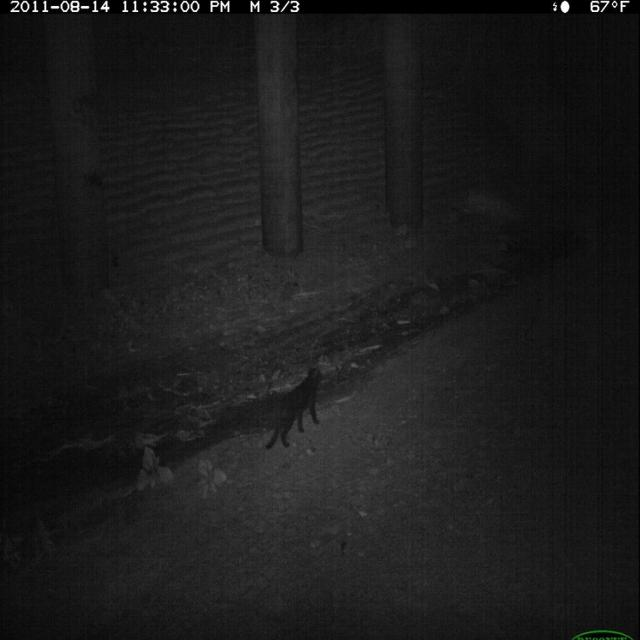cat: (262, 360, 326, 454)
